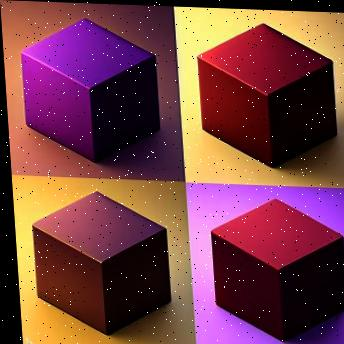cube: (194, 18, 338, 168), (28, 188, 170, 334), (19, 19, 163, 161), (206, 195, 344, 341)
